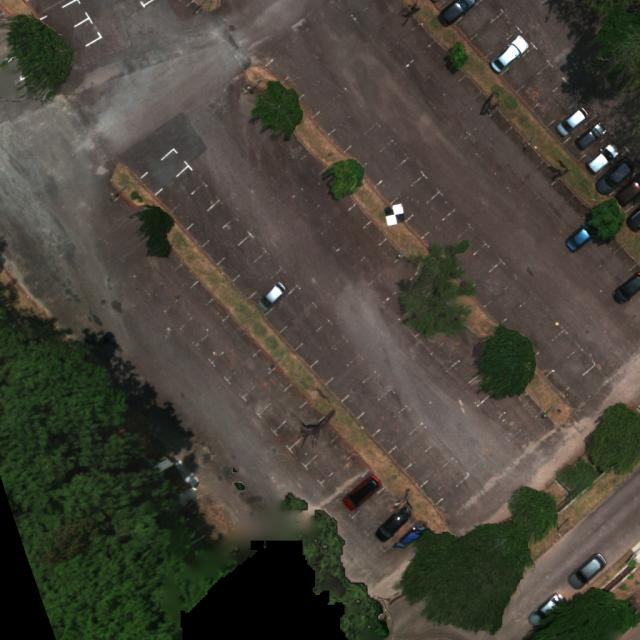blur tree: (398, 519, 537, 635), (523, 584, 638, 640), (6, 13, 76, 100), (510, 486, 559, 545)
tree: (398, 240, 478, 339), (574, 0, 640, 84), (475, 322, 536, 402), (585, 401, 640, 474), (252, 79, 303, 141), (320, 158, 366, 202), (588, 198, 626, 244), (445, 40, 470, 72)
tree_crowd: (0, 301, 238, 640)
